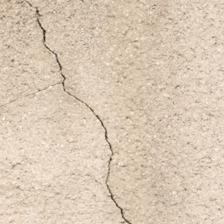Crack: (35, 9, 131, 221)
